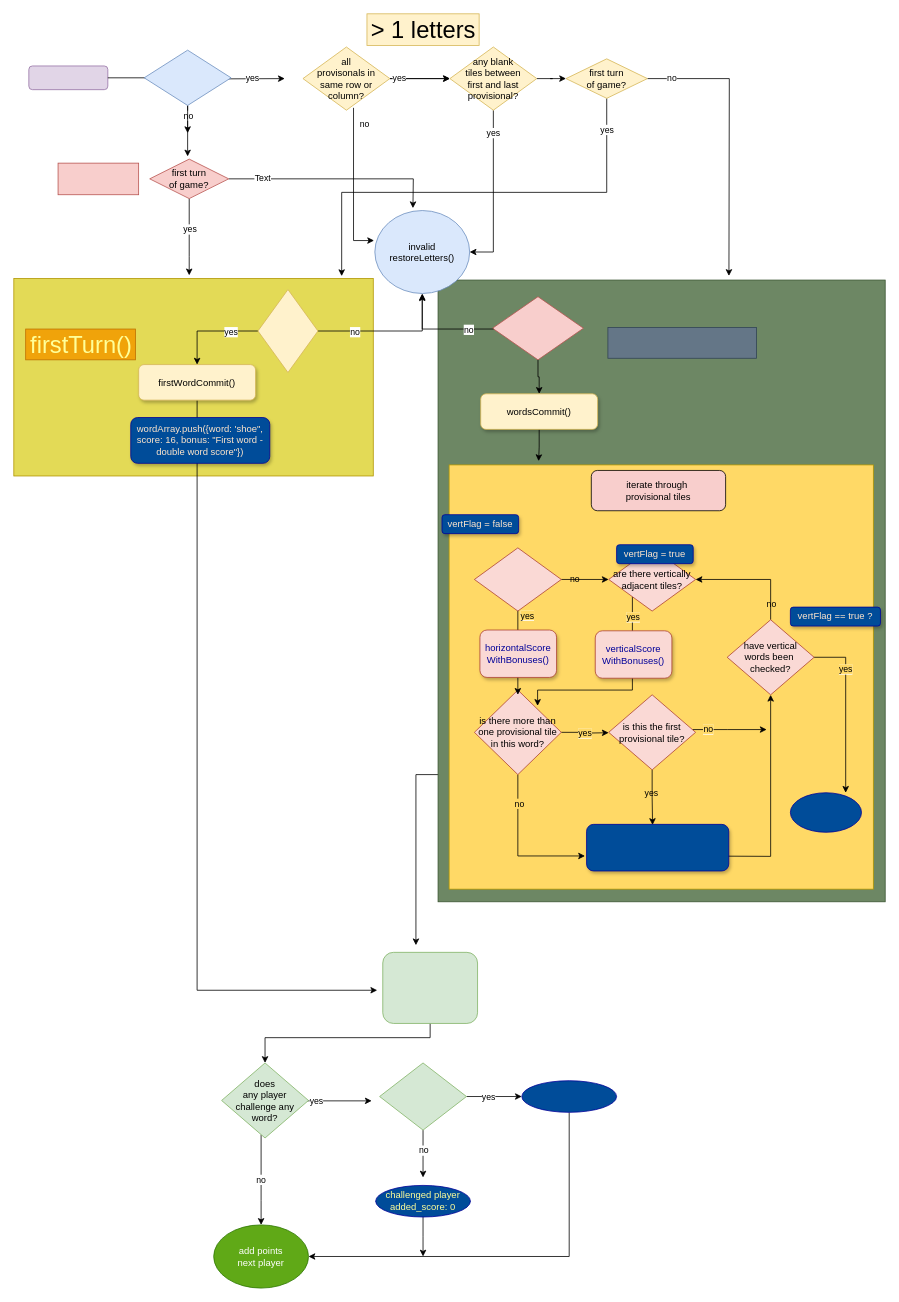
Some shapes in this 899 by 1302 pixel diagram are drawn without their labels. Each missing label, with the centre of its shape:
1 letter: (x=98, y=178)
are > 0 new letters adjacent to old letters?: (x=537, y=328)
are there horizontally adjacent tiles?: (x=517, y=579)
challenging player {skip: true}: (x=569, y=1096)
is center tile used?: (x=287, y=330)
is word validated by dictionary?: (x=422, y=1096)
iterate through wordArray broadcast new score notification: (x=430, y=987)
more than one letter?: (x=187, y=77)
next provisional tile: (x=825, y=812)
secondTurn(): (x=681, y=342)
validateLetters(): (x=68, y=77)
wordArray.push({word: 'shoe", score: 135, bonus: "O double letter score"}): (x=658, y=848)
